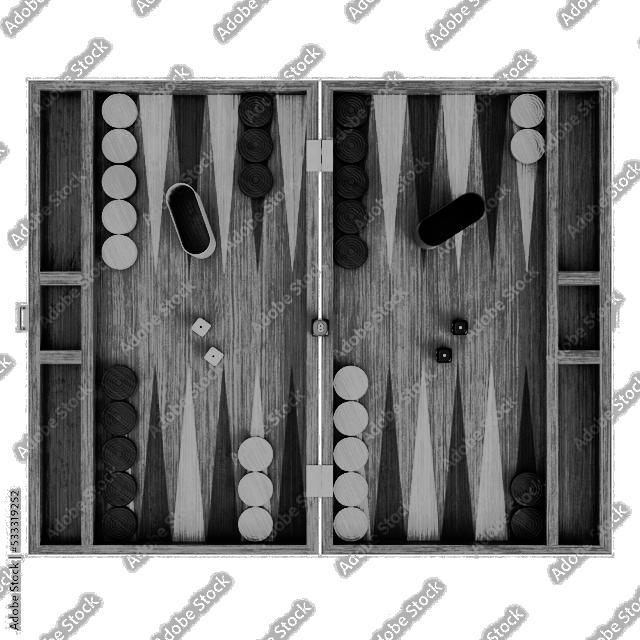bar: (305, 101, 334, 537)
board: (92, 91, 550, 547)
dark_p: (100, 398, 140, 440), (98, 435, 140, 471), (100, 505, 139, 543), (101, 472, 140, 509), (509, 507, 548, 543), (101, 364, 137, 402), (237, 164, 274, 200), (335, 91, 371, 128), (510, 470, 547, 506), (335, 163, 370, 200), (240, 92, 274, 130), (236, 130, 275, 163), (333, 235, 369, 270), (334, 199, 368, 234), (335, 128, 370, 161)
dice: (308, 315, 333, 341), (202, 345, 225, 368), (190, 316, 213, 338), (450, 317, 471, 338), (435, 346, 454, 365)
light_p: (100, 231, 141, 273), (99, 91, 141, 131), (98, 127, 142, 165), (332, 435, 374, 473), (237, 506, 278, 544), (99, 198, 141, 235), (332, 364, 371, 403), (235, 435, 274, 473), (510, 127, 547, 167), (333, 470, 371, 506), (333, 507, 370, 543), (101, 164, 138, 199), (236, 473, 275, 506), (332, 402, 370, 435), (512, 93, 545, 129)
